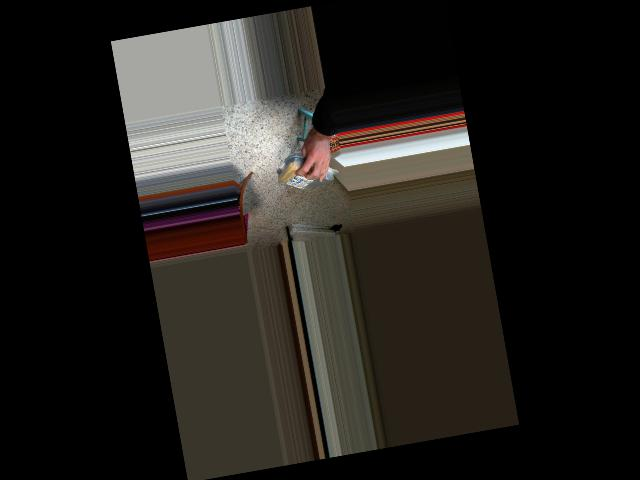cheese: (275, 153, 340, 193)
